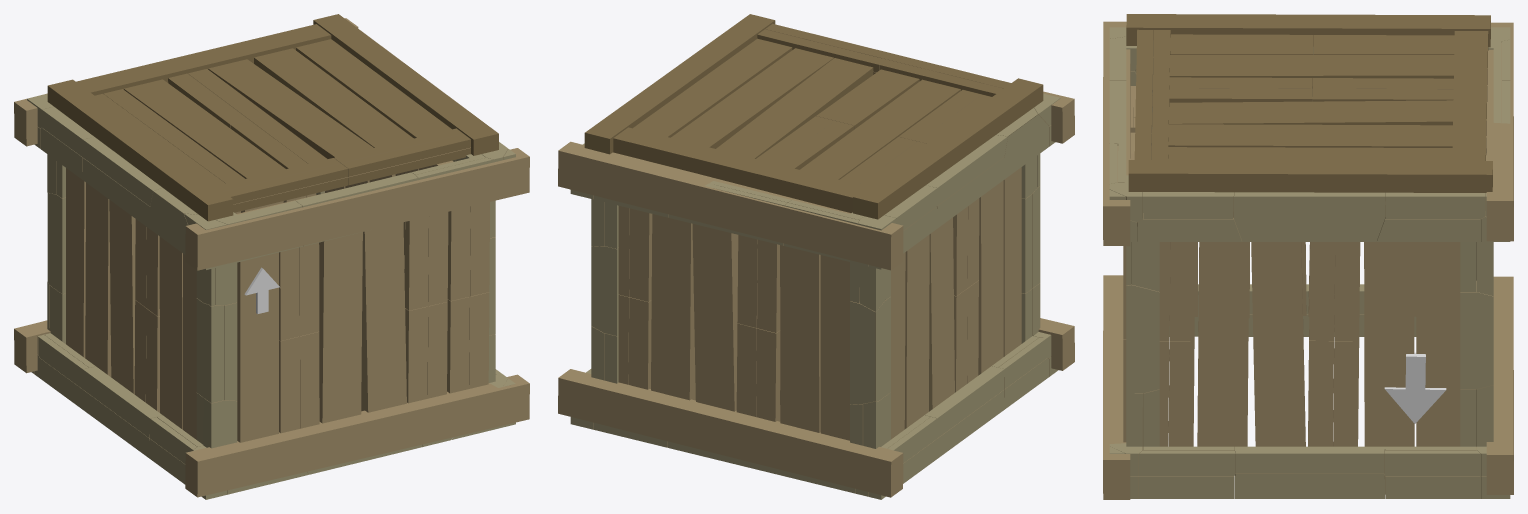
The model's file is CrateBroken.fbx.
3 views of the same model, side by side, from view 1: azimuth 30°, elevation 25°; view 2: azimuth 150°, elevation 25°; view 3: azimuth 270°, elevation 25° (orthographic). The views are drawn at different scales.
Visible parts, largest first — view 1: Cube.017, Cube.016, Cube.023, Cube.024, Cube.012, Cube.025, Cube.011, Cube.006, Cube.009, Cube.004, Cube.014, Cube.041 (+62 smaller); view 2: Cube.018, Cube.015, Cube.029, Cube.028, Cube.031, Cube.012, Cube.014, Cube.032, Cube.011, Cube.006, Cube.009, Cube.004 (+63 smaller); view 3: Cube.011, Cube.036, Cube.037, Cube.034, Cube.033, Cube.012, Cube.003_cell.046, Cube.009, Cube.006, Cube.005, Cube.018, Cube.017 (+49 smaller).
Boxes of the visible parts, x1,y1,x2,y2 form: Cube.017: (185, 374, 529, 497); Cube.016: (185, 148, 529, 270); Cube.023: (361, 222, 406, 412); Cube.024: (319, 232, 362, 423); Cube.012: (47, 79, 233, 221); Cube.025: (237, 252, 278, 442); Cube.011: (313, 14, 498, 155); Cube.006: (208, 59, 373, 158); Cube.009: (124, 79, 285, 178); Cube.004: (296, 39, 451, 138); Cube.014: (76, 24, 331, 95); Cube.041: (109, 200, 135, 394); Cube.018: (558, 369, 903, 497); Cube.015: (558, 141, 903, 270); Cube.029: (692, 224, 738, 411); Cube.028: (651, 214, 695, 400); Cube.031: (780, 245, 820, 432); Cube.012: (853, 78, 1043, 219); Cube.014: (613, 127, 866, 212); Cube.032: (820, 255, 859, 440); Cube.011: (584, 14, 775, 154); Cube.006: (716, 58, 873, 158); Cube.009: (800, 79, 960, 179); Cube.004: (633, 38, 792, 137); Cube.011: (1128, 160, 1492, 192); Cube.036: (1251, 242, 1305, 446); Cube.037: (1197, 242, 1249, 450); Cube.034: (1364, 241, 1414, 446); Cube.033: (1416, 242, 1460, 446); Cube.012: (1126, 14, 1490, 47); Cube.003_cell.046: (1234, 193, 1384, 241); Cube.009: (1169, 54, 1454, 88); Cube.006: (1169, 100, 1453, 125); Cube.005: (1168, 124, 1452, 147); Cube.018: (1486, 276, 1513, 494); Cube.017: (1103, 275, 1130, 499).
Bounding box in the file's own units: 257 × 246 × 212.
